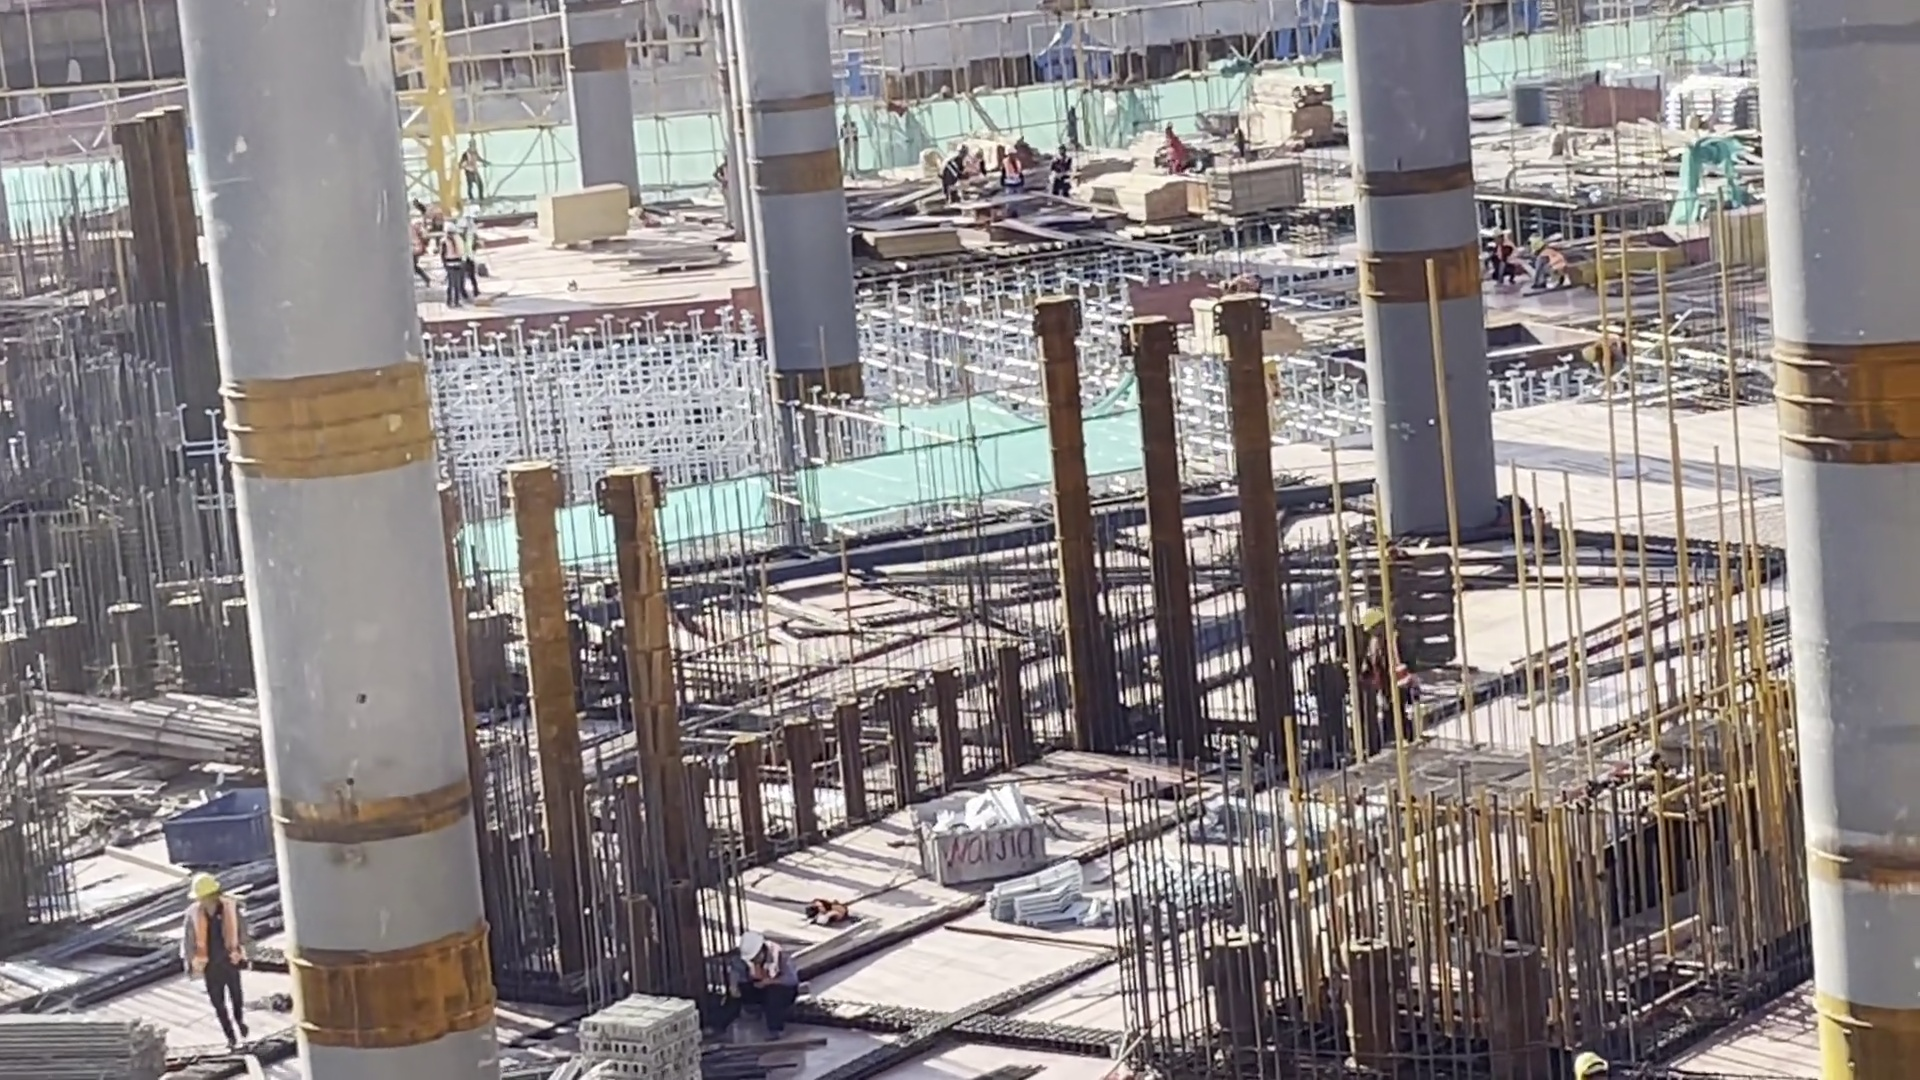helmet: (733, 927, 761, 961), (1361, 600, 1385, 637), (200, 876, 222, 897)
person: (169, 871, 267, 1058), (1359, 605, 1417, 741), (731, 920, 796, 1020), (434, 211, 470, 311), (1525, 232, 1574, 294), (1151, 117, 1197, 178), (1484, 219, 1518, 297), (940, 141, 974, 204), (1048, 137, 1077, 208), (454, 126, 482, 194), (1000, 132, 1023, 206)
vest: (187, 909, 248, 974)
